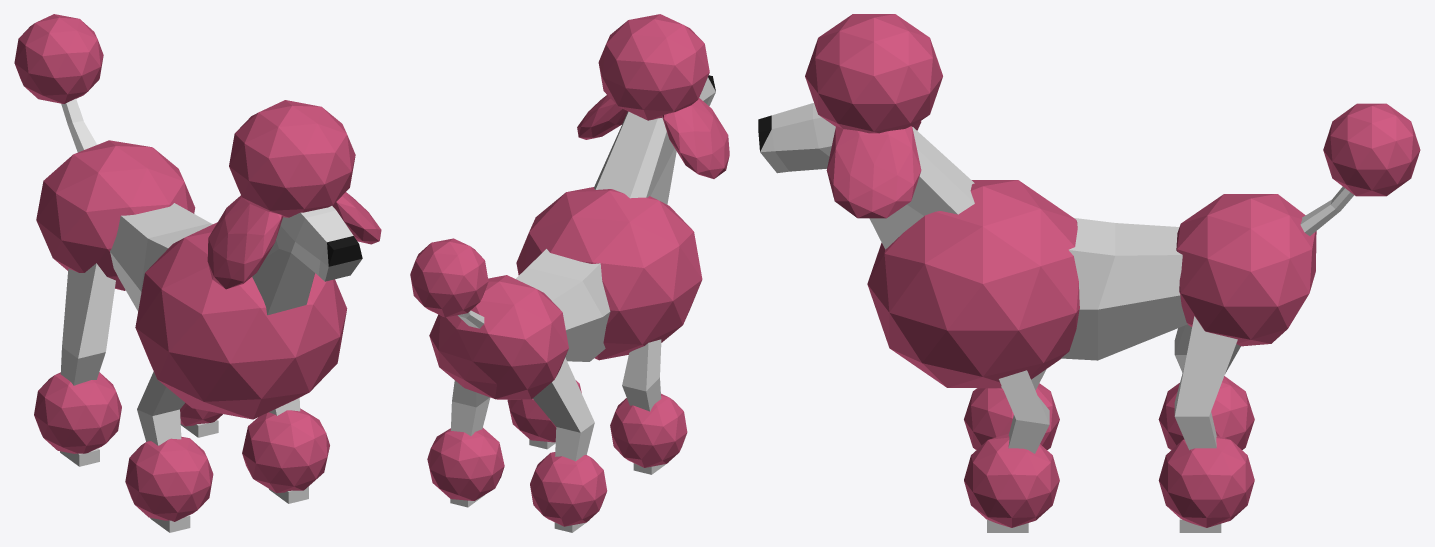
The model's file is Poodle_01.fbx.
3 renders of one model, left to right at view 1: azimuth 30°, elevation 25°; view 2: azimuth 150°, elevation 25°; view 3: azimuth 270°, elevation 25°, orthographic. The views are drawn at different scales.
Visible parts, largest first — view 1: Poodle_01; view 2: Poodle_01; view 3: Poodle_01.
Boxes of the visible parts, box(x1,y1,x2,y2) form: Poodle_01: box(14, 14, 381, 532); Poodle_01: box(410, 14, 729, 532); Poodle_01: box(758, 14, 1420, 532).
Bounding box in the file's own units: 4.08 × 9.16 × 11.47.
